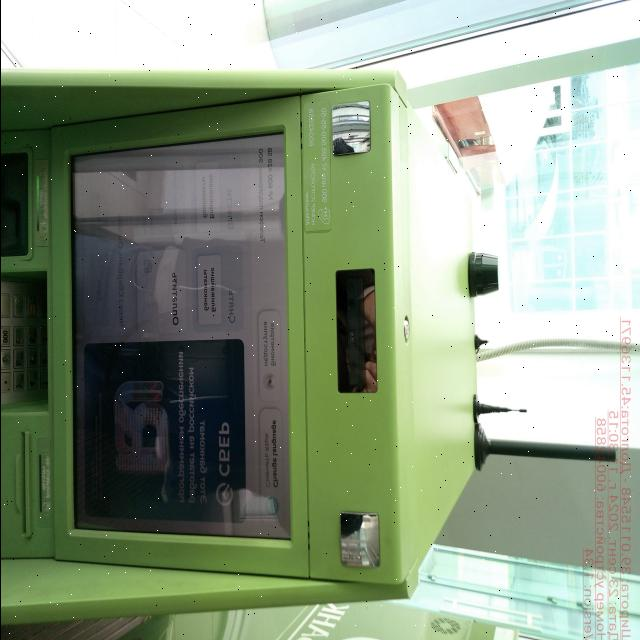bank: (0, 59, 497, 622)
